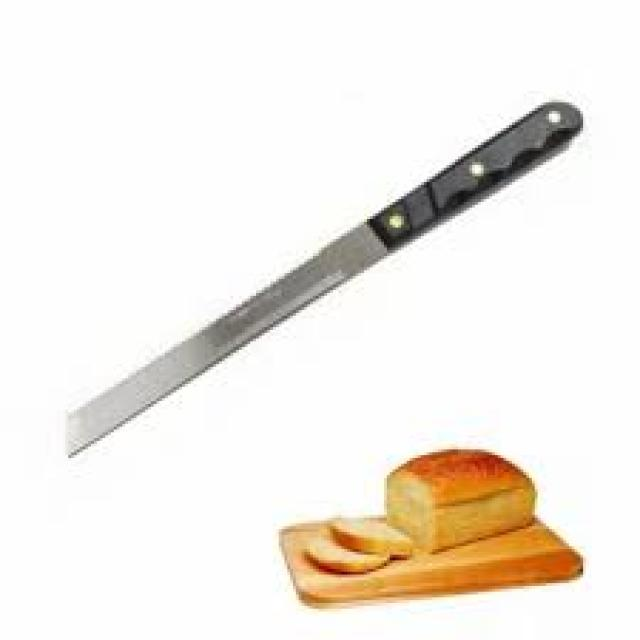Knife: (68, 100, 580, 455)
